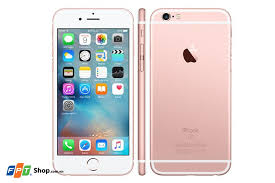iphone: (52, 3, 138, 175), (145, 4, 231, 176)
iphone6: (147, 4, 232, 181), (52, 3, 138, 175)
